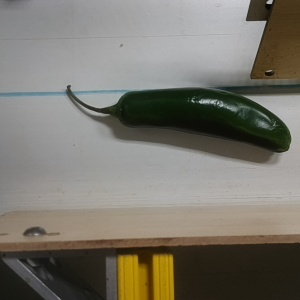Cut Point: (102, 91, 135, 130)
